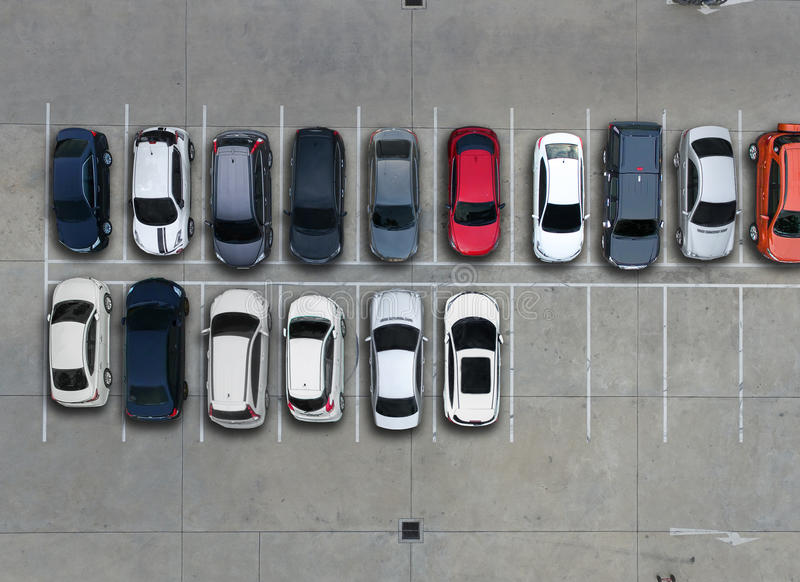Car: (120, 277, 192, 425), (203, 290, 272, 435), (209, 128, 275, 270), (280, 293, 348, 430), (48, 272, 113, 415), (364, 288, 427, 435), (440, 288, 503, 431), (604, 123, 664, 273), (130, 125, 196, 260), (51, 121, 114, 257), (677, 123, 737, 265), (287, 127, 348, 266), (749, 114, 800, 269), (532, 131, 588, 267), (369, 125, 420, 264), (447, 126, 500, 257)
